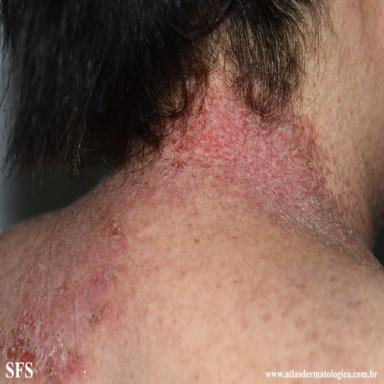Darier_s-Disease: (0, 74, 383, 383)
